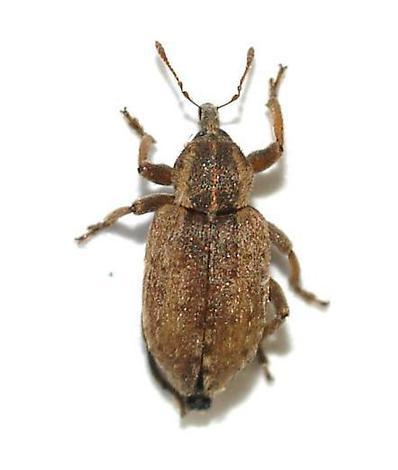weevils: (45, 15, 366, 447)
